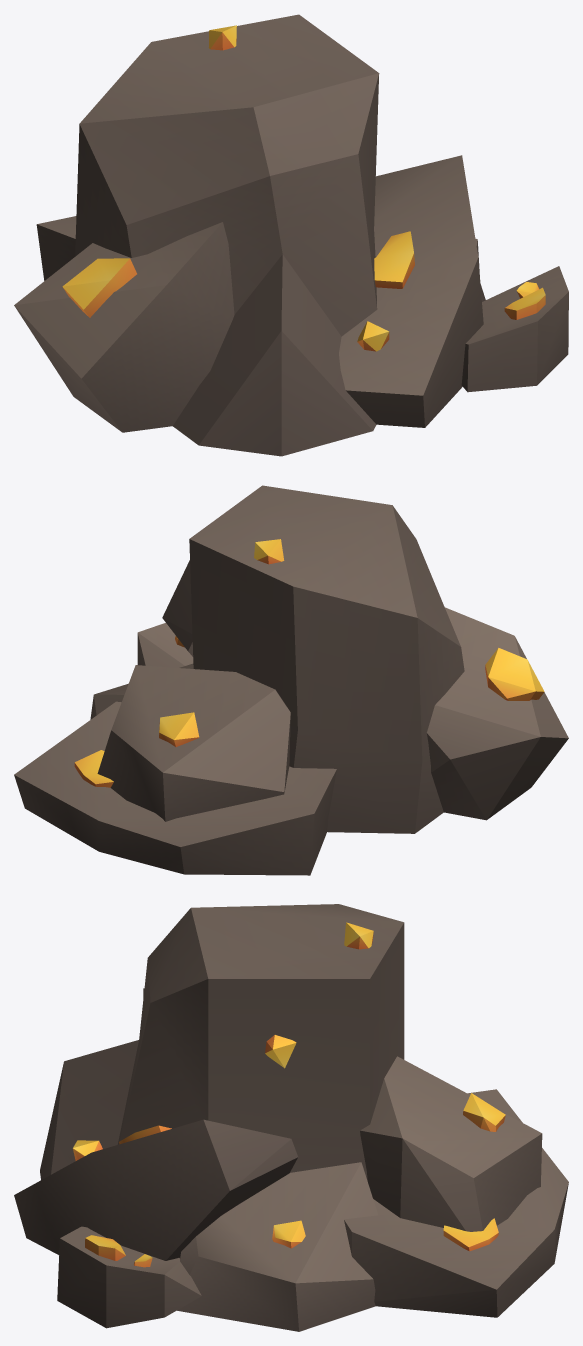
File: rocks_gold.glb
3 renders of one model, top to bottom at view 1: azimuth 30°, elevation 25°; view 2: azimuth 150°, elevation 25°; view 3: azimuth 270°, elevation 25°, orthographic. The views are drawn at different scales.
Visible parts, largest first — view 1: rocks_gold; view 2: rocks_gold; view 3: rocks_gold.
Boxes of the visible parts, bbox=[...] form: rocks_gold: bbox=[14, 14, 568, 456]; rocks_gold: bbox=[14, 485, 568, 875]; rocks_gold: bbox=[14, 904, 568, 1331].
Bounding box in the file's own units: 2.84 × 1.6 × 2.74.
1 material, 1 textured.
